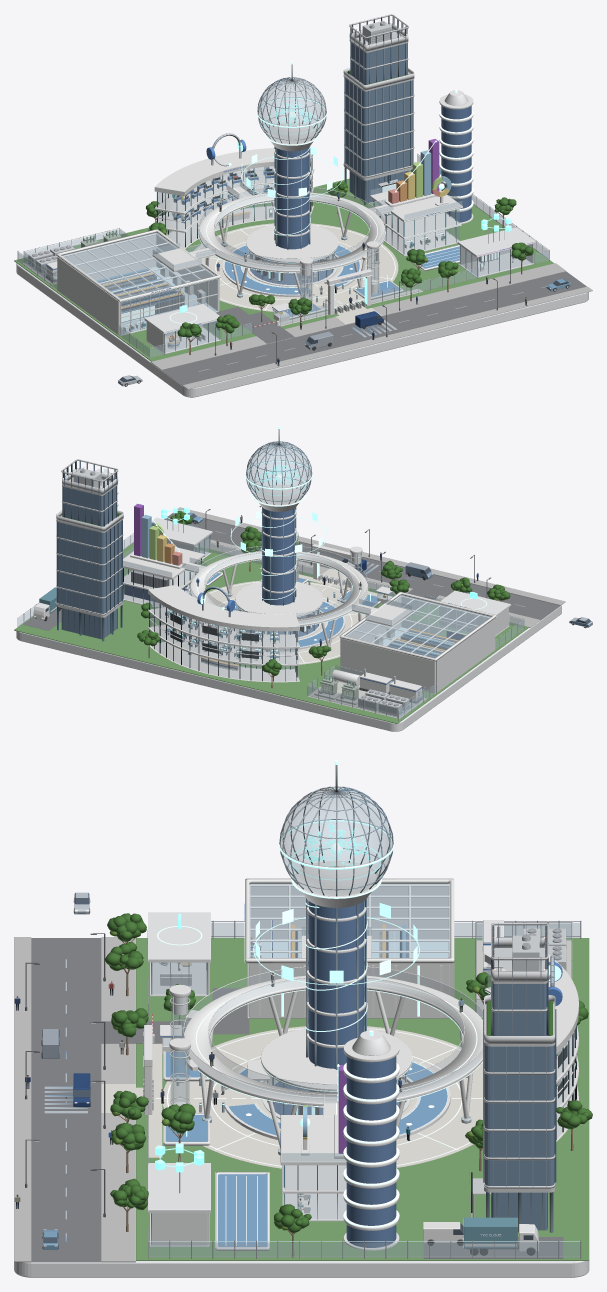
The model's file is smart_cloud.glb.
3 views of the same model, one above another, from view 1: azimuth 30°, elevation 25°; view 2: azimuth 150°, elevation 25°; view 3: azimuth 270°, elevation 25° (orthographic). The views are drawn at different scales.
Visible parts, largest first — view 1: bake-static_site, bake-static_building, glass-static_building-glass, bake-hot-erp, bake-hot-big-data, bake-hot-ai-services, vbake-static_site, bake-static_tower, glass-hot-ai-services-glass, glass-static_tower-glass, vbake-static_building, glass-static_site-glass (+18 smaller); view 2: bake-static_site, bake-static_building, bake-hot-erp, bake-static_tower, glass-static_building-glass, glass-static_tower-glass, bake-hot-ai-services, vbake-static_site, bake-hot-big-data, glass-hot-ai-services-glass, vbake-hot-erp, glass-static_site-glass (+15 smaller); view 3: bake-static_site, bake-static_building, bake-hot-erp, bake-hot-big-data, glass-static_building-glass, bake-hot-ai-services, vbake-static_site, glass-hot-ai-services-glass, glass-static_site-glass, vbake-hot-ai-services, vbake-static_building, bake-hot-blockchain (+16 smaller).
Boxes of the visible parts, left/top/right/bottom form: bake-static_site: left=14, top=154, right=592, bottom=397; bake-static_building: left=56, top=186, right=393, bottom=335; glass-static_building-glass: left=62, top=182, right=393, bottom=333; bake-hot-erp: left=343, top=14, right=441, bottom=203; bake-hot-big-data: left=370, top=90, right=473, bottom=271; bake-hot-ai-services: left=246, top=122, right=338, bottom=286; vbake-static_site: left=17, top=153, right=549, bottom=371; bake-static_tower: left=154, top=148, right=314, bottom=249; glass-hot-ai-services-glass: left=251, top=77, right=334, bottom=284; glass-static_tower-glass: left=157, top=160, right=311, bottom=247; vbake-static_building: left=63, top=181, right=393, bottom=334; glass-static_site-glass: left=18, top=155, right=548, bottom=357; bake-static_site: left=14, top=507, right=565, bottom=731; bake-static_building: left=183, top=531, right=495, bottom=693; bake-hot-erp: left=33, top=459, right=123, bottom=639; bake-static_tower: left=148, top=584, right=299, bottom=682; glass-static_building-glass: left=182, top=538, right=490, bottom=657; glass-static_tower-glass: left=150, top=596, right=298, bottom=681; bake-hot-ai-services: left=235, top=484, right=323, bottom=638; vbake-static_site: left=17, top=506, right=524, bottom=721; bake-hot-big-data: left=95, top=468, right=222, bottom=607; glass-hot-ai-services-glass: left=239, top=442, right=319, bottom=636; vbake-hot-erp: left=35, top=460, right=122, bottom=641; glass-static_site-glass: left=18, top=534, right=523, bottom=719; bake-static_site: left=14, top=920, right=589, bottom=1277; bake-static_building: left=169, top=878, right=482, bottom=1149; bake-hot-erp: left=423, top=923, right=555, bottom=1251; bake-hot-big-data: left=215, top=1030, right=399, bottom=1250; glass-static_building-glass: left=170, top=884, right=482, bottom=1105; bake-hot-ai-services: left=247, top=860, right=412, bottom=1118; vbake-static_site: left=25, top=913, right=592, bottom=1258; glass-hot-ai-services-glass: left=267, top=787, right=405, bottom=1114; glass-static_site-glass: left=149, top=923, right=579, bottom=1257; vbake-hot-ai-services: left=247, top=765, right=406, bottom=1114; vbake-static_building: left=170, top=884, right=482, bottom=1155; bake-hot-blockchain: left=148, top=1163, right=210, bottom=1246.
Size of the model in its own units: 99.57 by 44.9 by 66.4.
